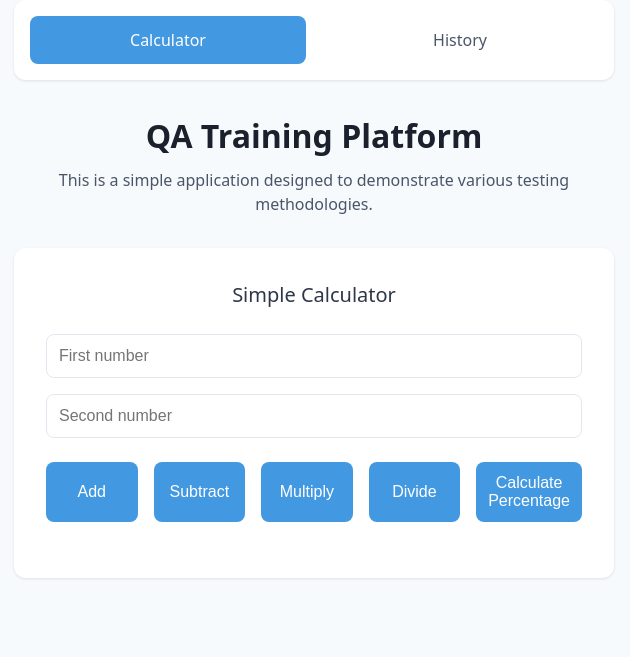
it: Calculator E2E Tests › should handle invalid inputs
Type "abc" into the number field with test id "num1-input" at (314, 356), box [46, 334, 582, 378]
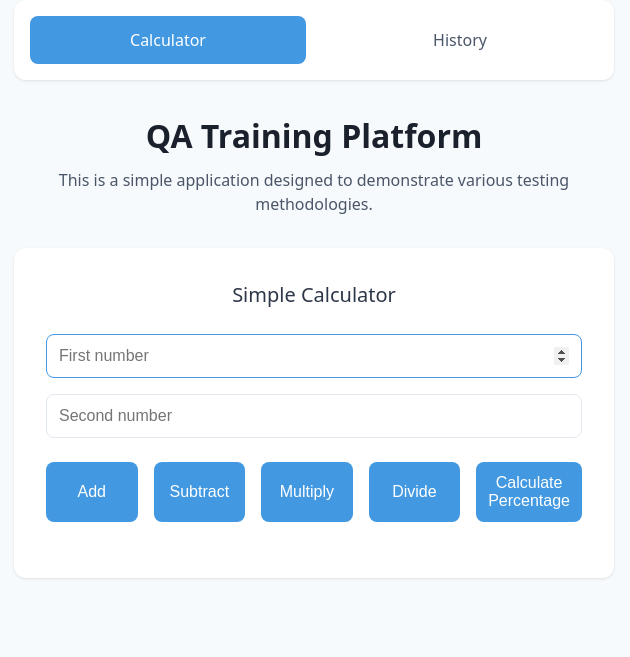
Type "3" into the number field with test id "num2-input" at (314, 416), box [46, 394, 582, 438]
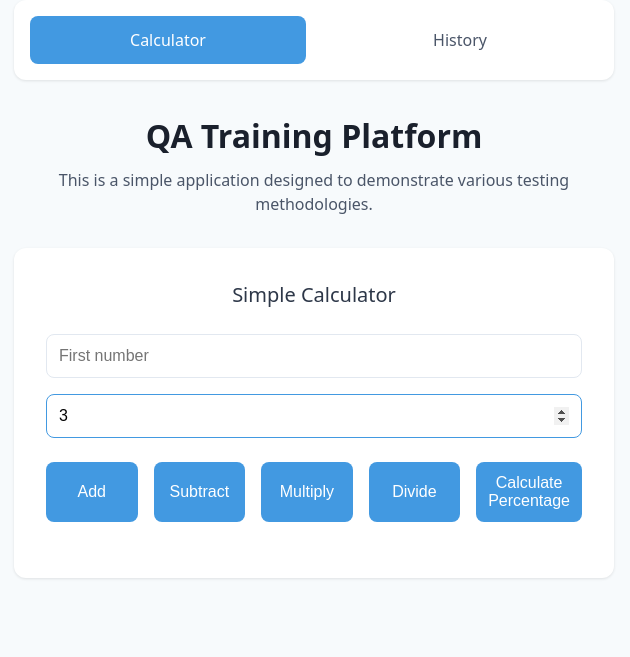
Click the button with test id "add-button" at (92, 492), box [46, 462, 138, 522]
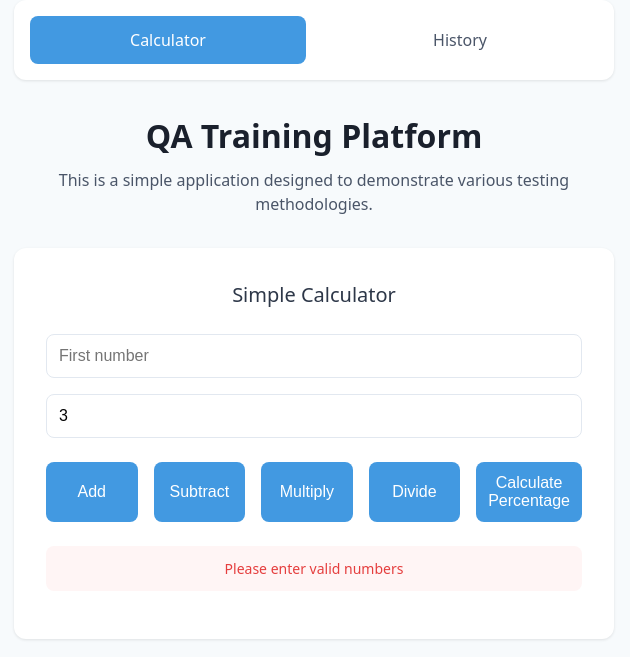
Check: the text with test id "error-message" reads "Please enter valid numbers", box [225, 559, 404, 578]
